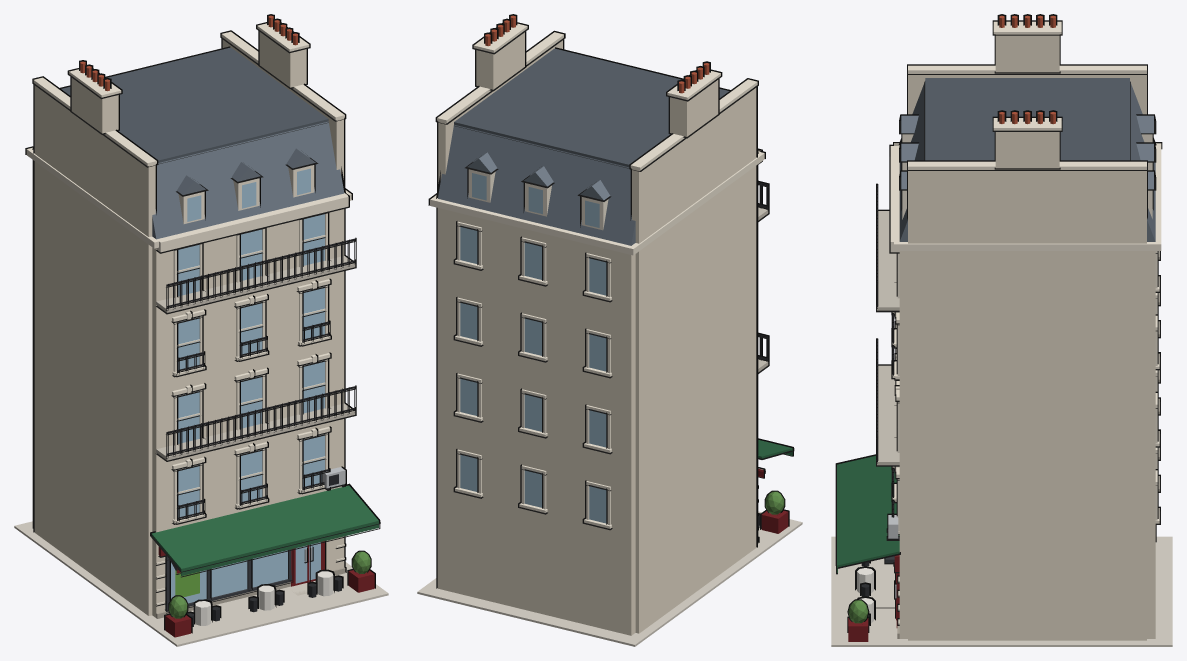
The model's file is Dukkan_cadde_bistro.fbx.
The picture shows the model from 3 angles, left to right: view 1: azimuth 30°, elevation 25°; view 2: azimuth 150°, elevation 25°; view 3: azimuth 270°, elevation 25°; orthographic projection. The views are drawn at different scales.
Parts seen in each view (by area): view 1: Dukkan_cadde_bistro; view 2: Dukkan_cadde_bistro; view 3: Dukkan_cadde_bistro.
Boxes of the visible parts, x1,y1,x2,y2 form: Dukkan_cadde_bistro: (14, 14, 388, 646); Dukkan_cadde_bistro: (417, 14, 802, 646); Dukkan_cadde_bistro: (831, 14, 1172, 646).
Bounding box in the file's own units: 9 × 20.59 × 12.
